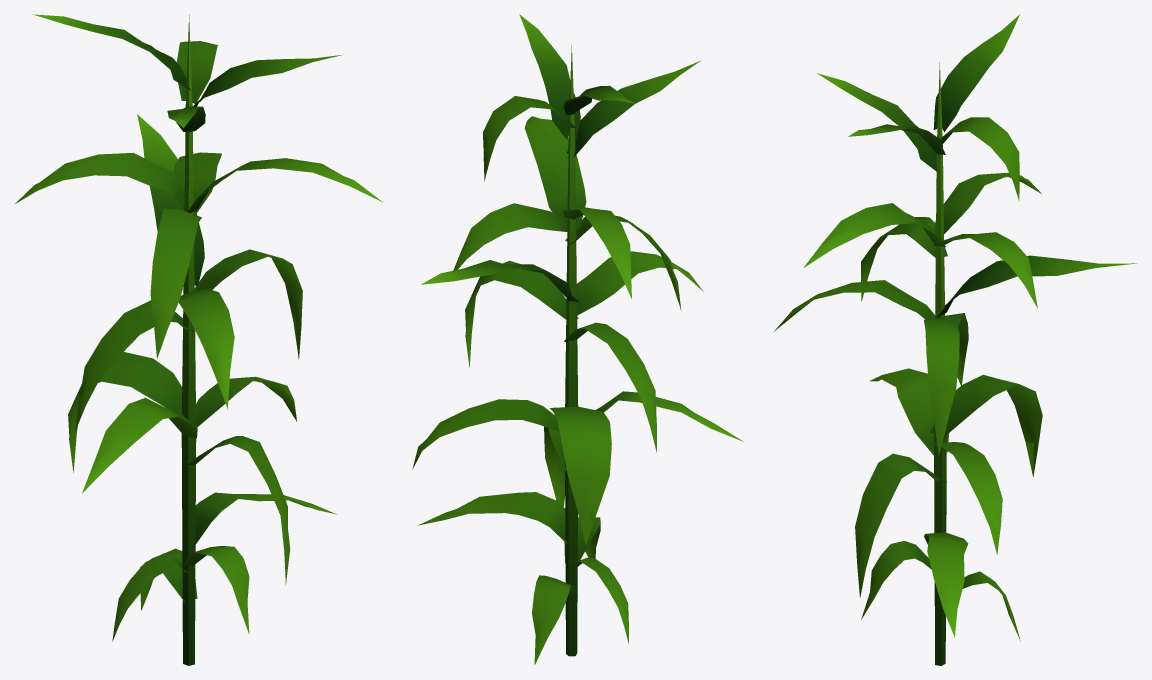
The model's file is Corn_1.fbx.
3 renders of one model, left to right at view 1: azimuth 30°, elevation 25°; view 2: azimuth 150°, elevation 25°; view 3: azimuth 270°, elevation 25°, orthographic. The views are drawn at different scales.
Parts seen in each view (by area): view 1: Corn_1; view 2: Corn_1; view 3: Corn_1.
Boxes of the visible parts, x1,y1,x2,y2 form: Corn_1: (15,14,383,665); Corn_1: (412,14,743,664); Corn_1: (774,14,1136,665).
Size of the model in its own units: 0.9898 by 2.03 by 1.11.
